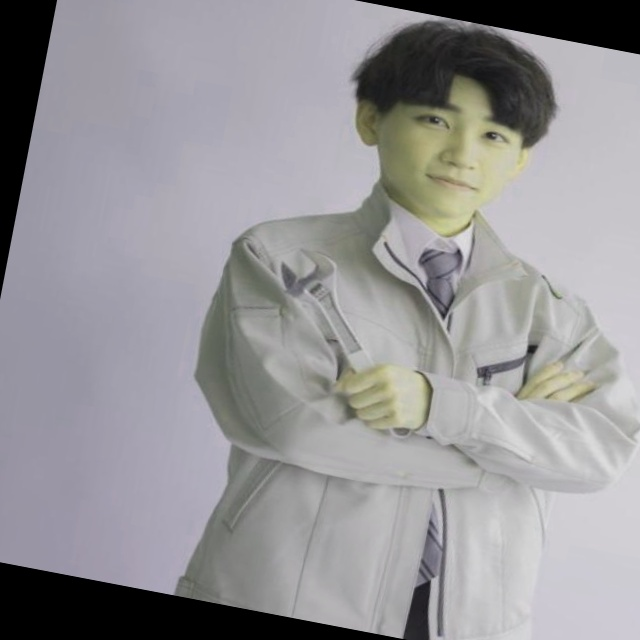Sin_Casco_Mascarrilla: (332, 9, 566, 226)
Sin_Chaleco: (191, 175, 596, 624)
